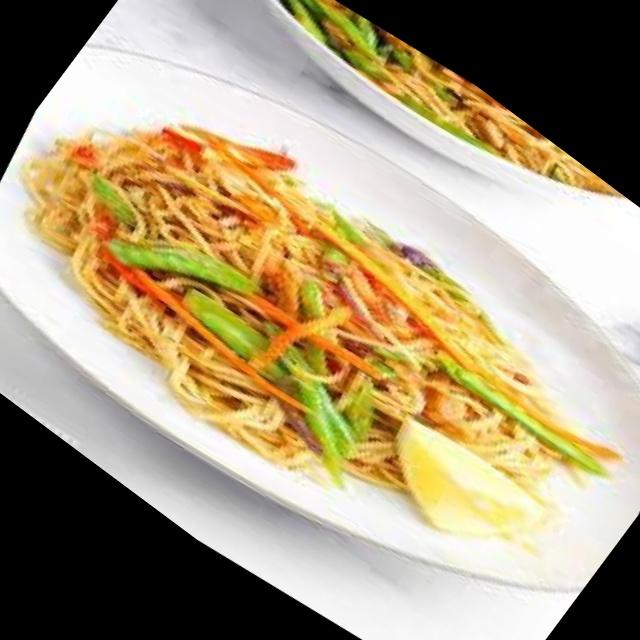pancit bihon: (36, 134, 565, 487)
